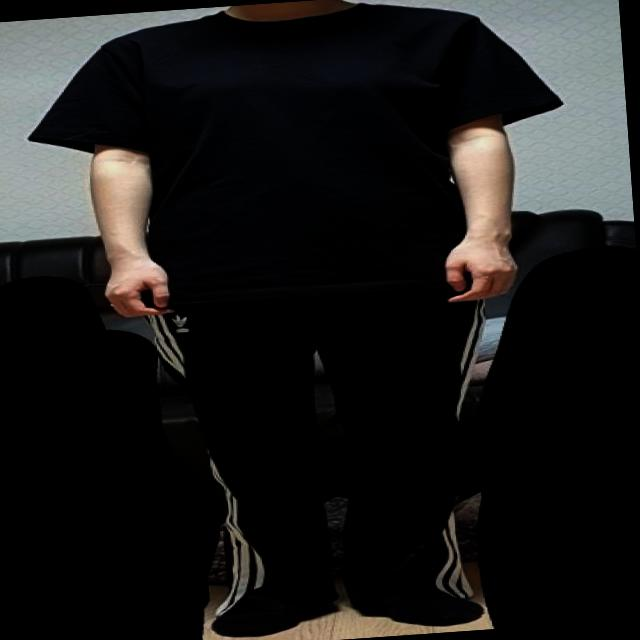shortsleeve: (24, 0, 566, 315)
slacks: (176, 280, 497, 624)
